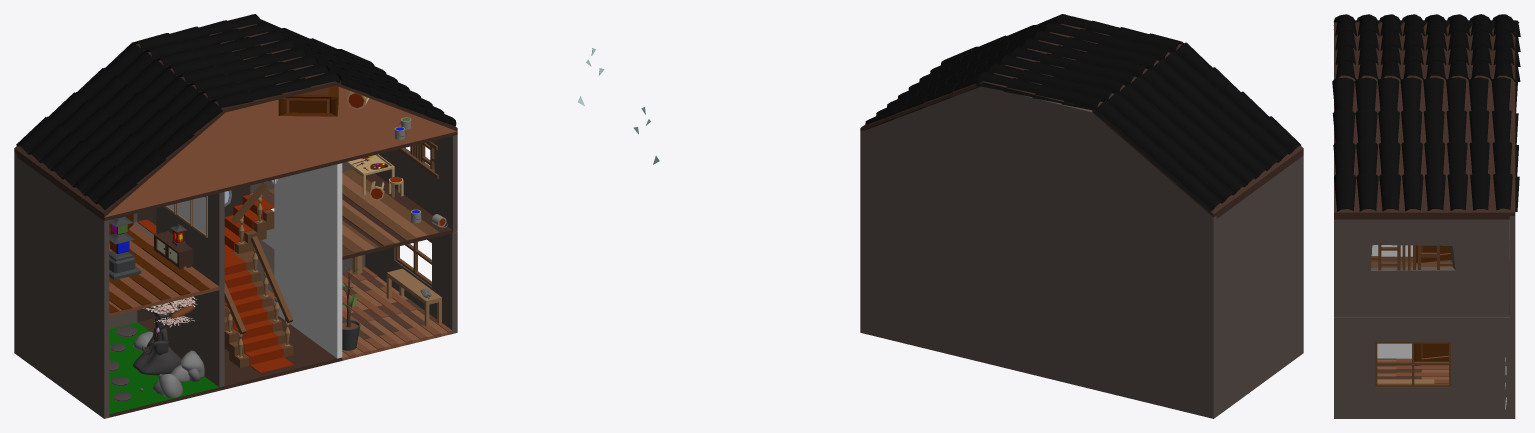
The model's file is hele poppenhuis (221).fbx.
The picture shows the model from 3 angles, left to right: view 1: azimuth 30°, elevation 25°; view 2: azimuth 150°, elevation 25°; view 3: azimuth 270°, elevation 25°; orthographic projection.
Parts seen in each view (by area): view 1: Cube.361, Circle.001, Circle.002, Cube.358, Cube.357, Cube.007, Cube.213, Cube.016, Cube.318, Circle, Cube.317, Cube.359 (+13 smaller); view 2: Cube.355, Cube.346, Circle.001, Circle.002, Cube.358, Cube.357, Circle, Cube.347; view 3: Circle, Cube.317, Cube.271, Circle.002, Cube.347, Cube.355, Cube.309, Cube.361, Cube.356, Cube.007, Cube.311, Cube.318 (+8 smaller).
Boxes of the visible parts, left/top/right/bottom form: Cube.361: left=17, top=87, right=457, bottom=417; Circle.001: left=16, top=43, right=222, bottom=209; Circle.002: left=131, top=14, right=340, bottom=107; Cube.358: left=17, top=255, right=109, bottom=418; Cube.357: left=17, top=158, right=109, bottom=318; Cube.007: left=252, top=193, right=342, bottom=358; Cube.213: left=137, top=194, right=293, bottom=373; Cube.016: left=274, top=163, right=342, bottom=257; Cube.318: left=262, top=169, right=452, bottom=256; Circle: left=260, top=19, right=456, bottom=126; Cube.317: left=375, top=135, right=457, bottom=232; Cube.359: left=133, top=222, right=224, bottom=387; Cube.355: left=860, top=131, right=1216, bottom=418; Cube.346: left=861, top=86, right=1213, bottom=217; Circle.001: left=1093, top=42, right=1301, bottom=211; Circle.002: left=975, top=14, right=1183, bottom=110; Cube.358: left=1216, top=253, right=1303, bottom=416; Cube.357: left=1216, top=155, right=1303, bottom=315; Circle: left=864, top=14, right=1065, bottom=130; Cube.347: left=860, top=16, right=1303, bottom=217; Circle: left=1332, top=77, right=1519, bottom=211; Cube.317: left=1334, top=219, right=1509, bottom=316; Cube.271: left=1334, top=315, right=1509, bottom=418; Circle.002: left=1335, top=14, right=1520, bottom=81; Cube.347: left=1334, top=22, right=1515, bottom=215; Cube.355: left=1509, top=216, right=1515, bottom=418; Cube.309: left=1375, top=342, right=1450, bottom=387; Cube.361: left=1334, top=216, right=1509, bottom=359; Cube.356: left=1414, top=343, right=1448, bottom=365; Cube.007: left=1377, top=343, right=1411, bottom=358; Cube.311: left=1416, top=245, right=1451, bottom=263; Cube.318: left=1371, top=256, right=1451, bottom=265.
Bounding box in the file's own units: 6307 × 2958 × 1743.
42 materials, 1 textured.
